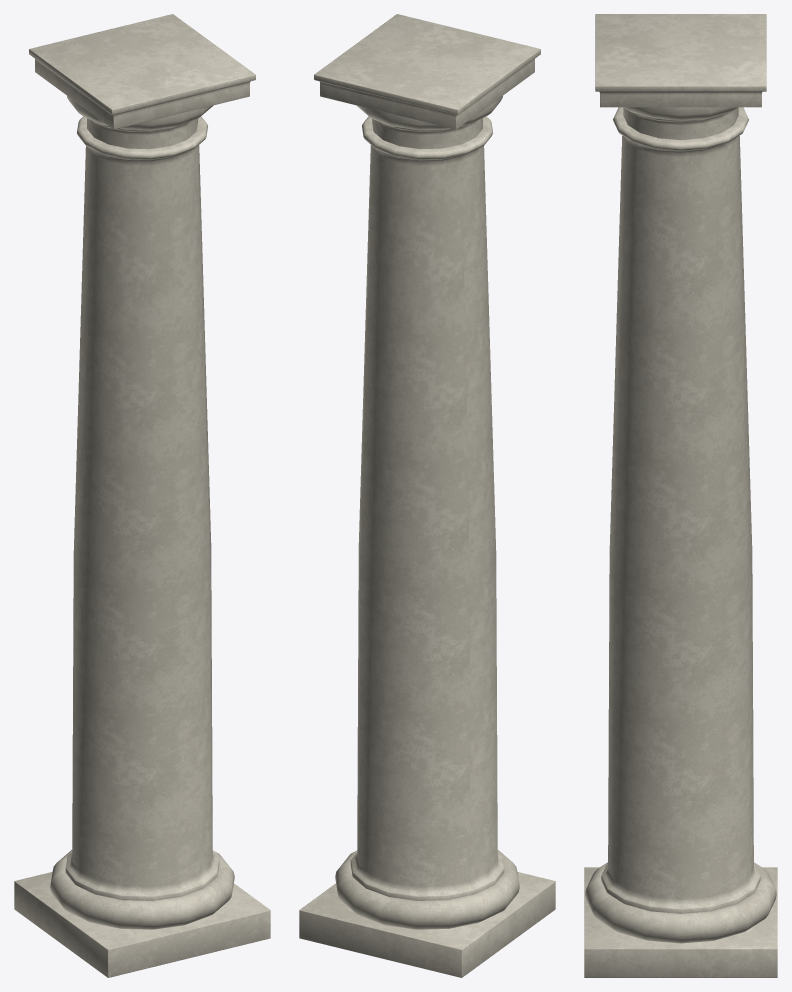
The model's file is tuscanColumn_stone.fbx.
The picture shows the model from 3 angles, left to right: view 1: azimuth 30°, elevation 25°; view 2: azimuth 150°, elevation 25°; view 3: azimuth 270°, elevation 25°; orthographic projection. The views are drawn at different scales.
Visible parts, largest first — view 1: shaft, abacus, plinth, torus, collarino, astragal, ovolo; view 2: shaft, abacus, plinth, torus, collarino, astragal, ovolo; view 3: shaft, abacus, plinth, torus, collarino, astragal, ovolo.
Boxes of the visible parts, x1,y1,x2,y2 form: shaft: (65, 145, 219, 900); abacus: (29, 14, 255, 129); plinth: (14, 872, 270, 977); torus: (50, 850, 234, 929); collarino: (87, 118, 197, 149); astragal: (77, 116, 207, 159); ovolo: (67, 96, 213, 130); shaft: (350, 145, 504, 900); abacus: (314, 14, 540, 129); plinth: (299, 872, 555, 977); torus: (335, 850, 519, 929); collarino: (372, 118, 482, 149); astragal: (362, 116, 492, 159); ovolo: (356, 96, 502, 130); shaft: (601, 135, 760, 913); abacus: (595, 14, 766, 107); plinth: (584, 867, 777, 977); torus: (585, 862, 776, 943); collarino: (623, 107, 738, 139); astragal: (613, 107, 748, 150); ovolo: (624, 107, 737, 120).
Bounding box in the file's own units: 1.8 × 9.1 × 1.8.
1 material, 1 textured.
